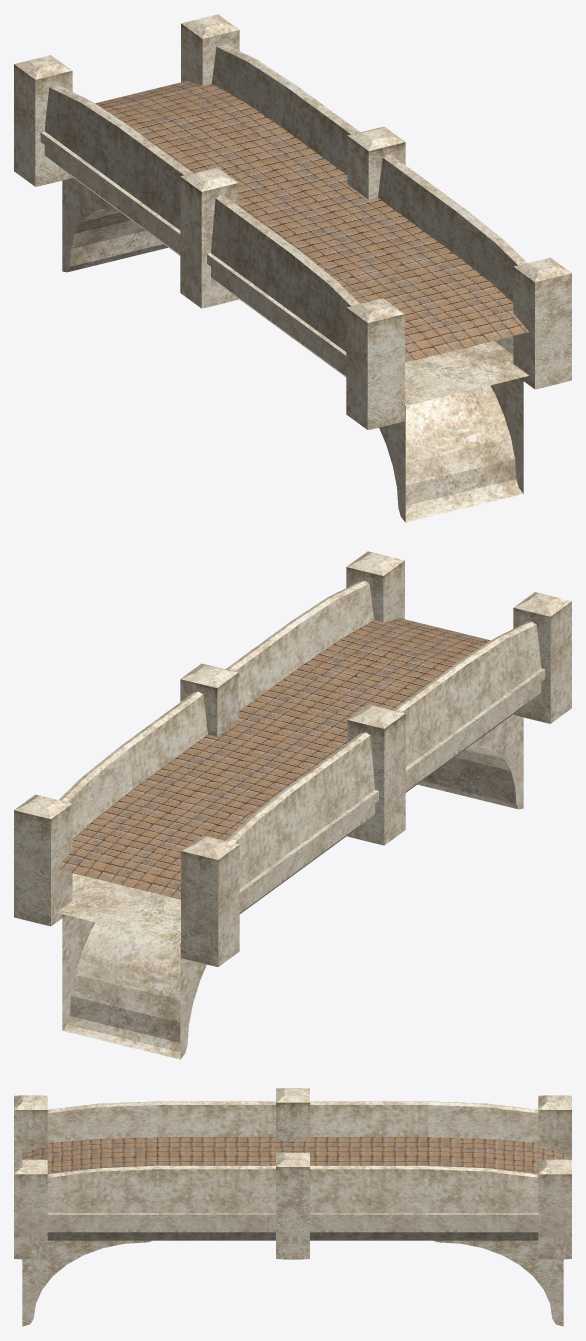
Rendered from thm_tato_imprv_bridge_sml_s02_l0.fbx.
The picture shows the model from 3 angles, top to bottom: view 1: azimuth 30°, elevation 25°; view 2: azimuth 150°, elevation 25°; view 3: azimuth 270°, elevation 25°; orthographic projection. The views are drawn at different scales.
Parts seen in each view (by area): view 1: mesh_node; view 2: mesh_node; view 3: mesh_node.
Boxes of the visible parts, x1,y1,x2,y2 form: mesh_node: (14,14,571,522); mesh_node: (14,551,571,1059); mesh_node: (14,1088,571,1326).
Bounding box in the file's own units: 5.5 × 5.86 × 16.5.
